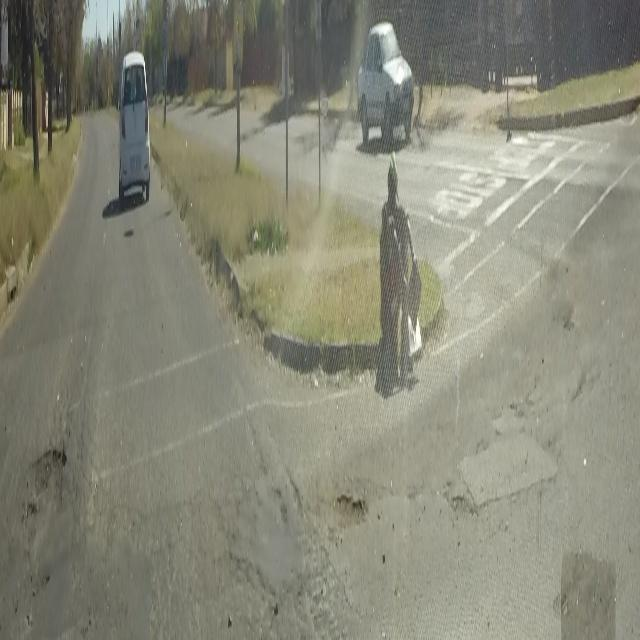pothole: (18, 443, 77, 509), (332, 488, 369, 536)
